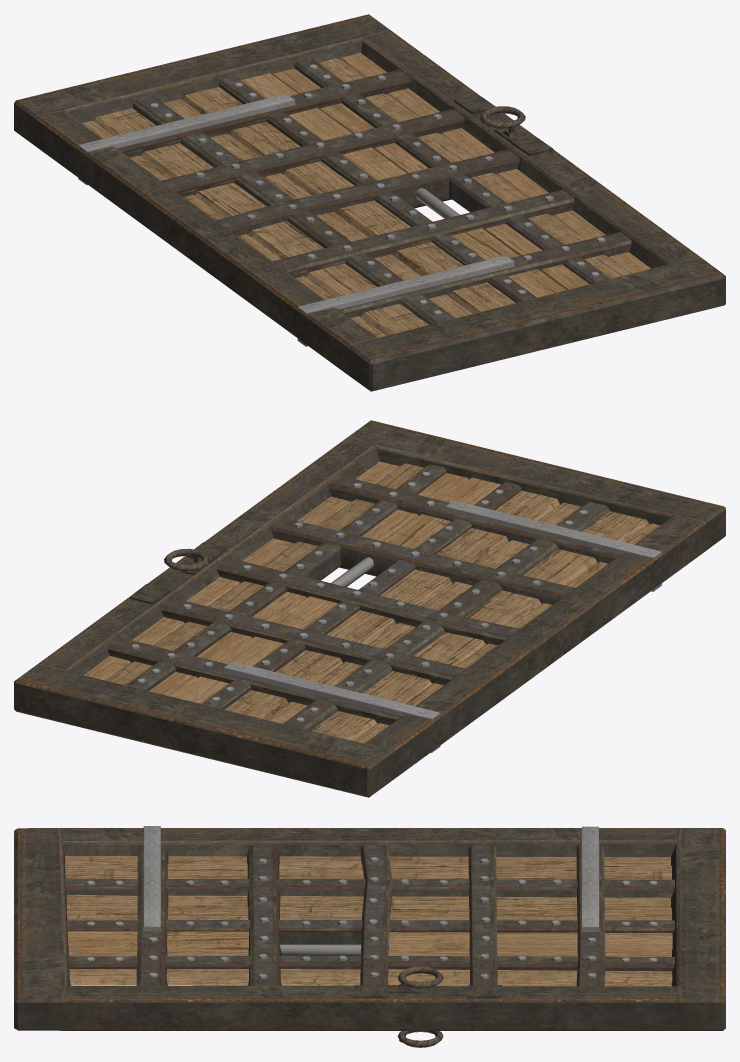
File: ING_INT_Door_02A_LOD0-transformed.glb
The picture shows the model from 3 angles, top to bottom: view 1: azimuth 30°, elevation 25°; view 2: azimuth 150°, elevation 25°; view 3: azimuth 270°, elevation 25°; orthographic projection.
Visible parts, largest first — view 1: ING_INT_Door_02A_LOD0; view 2: ING_INT_Door_02A_LOD0; view 3: ING_INT_Door_02A_LOD0.
Boxes of the visible parts, x1,y1,x2,y2 form: ING_INT_Door_02A_LOD0: (14, 14, 725, 391); ING_INT_Door_02A_LOD0: (14, 420, 725, 797); ING_INT_Door_02A_LOD0: (14, 826, 725, 1047).
Size of the model in its own units: 0.015 by 0.00273 by 0.026.
Materials: 3 (3 with a texture image).
